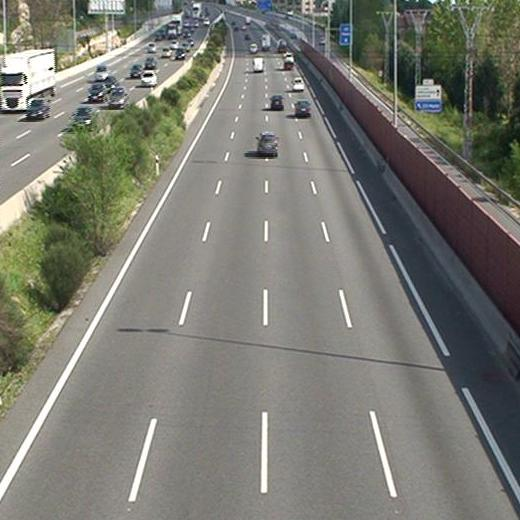car: (256, 132, 278, 156), (293, 98, 310, 116), (270, 95, 284, 110), (291, 78, 303, 90)
van: (252, 58, 264, 72)
